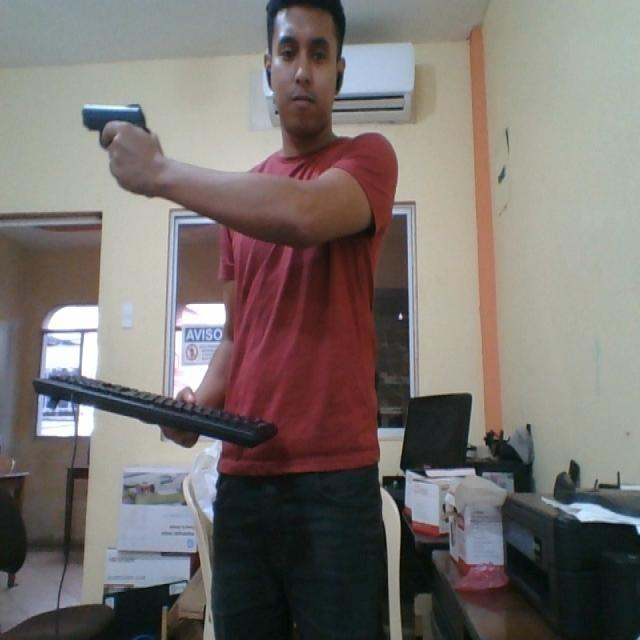weapon: (81, 98, 151, 152)
